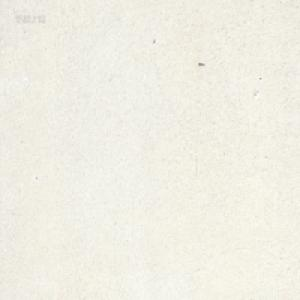Nail: (198, 61, 204, 65)
